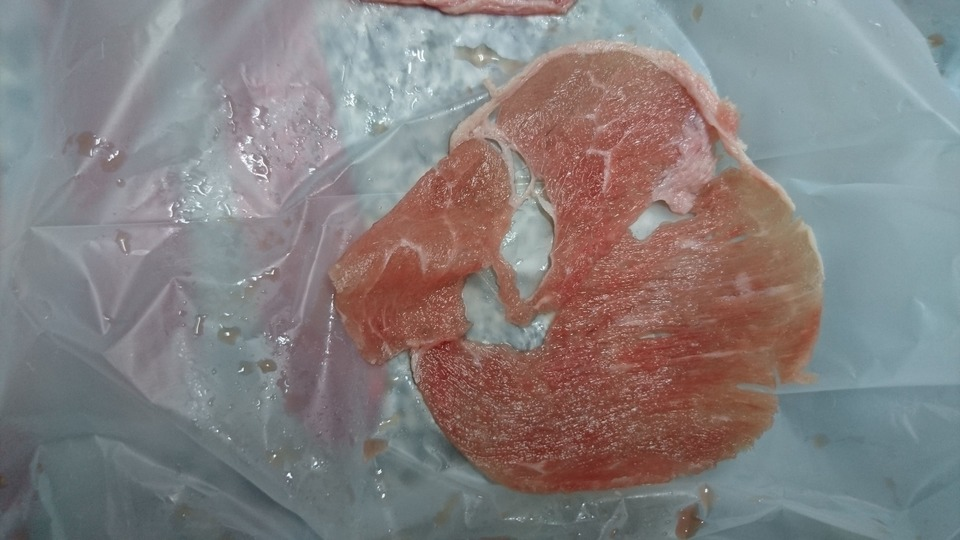restructured meat: (337, 38, 825, 487)
